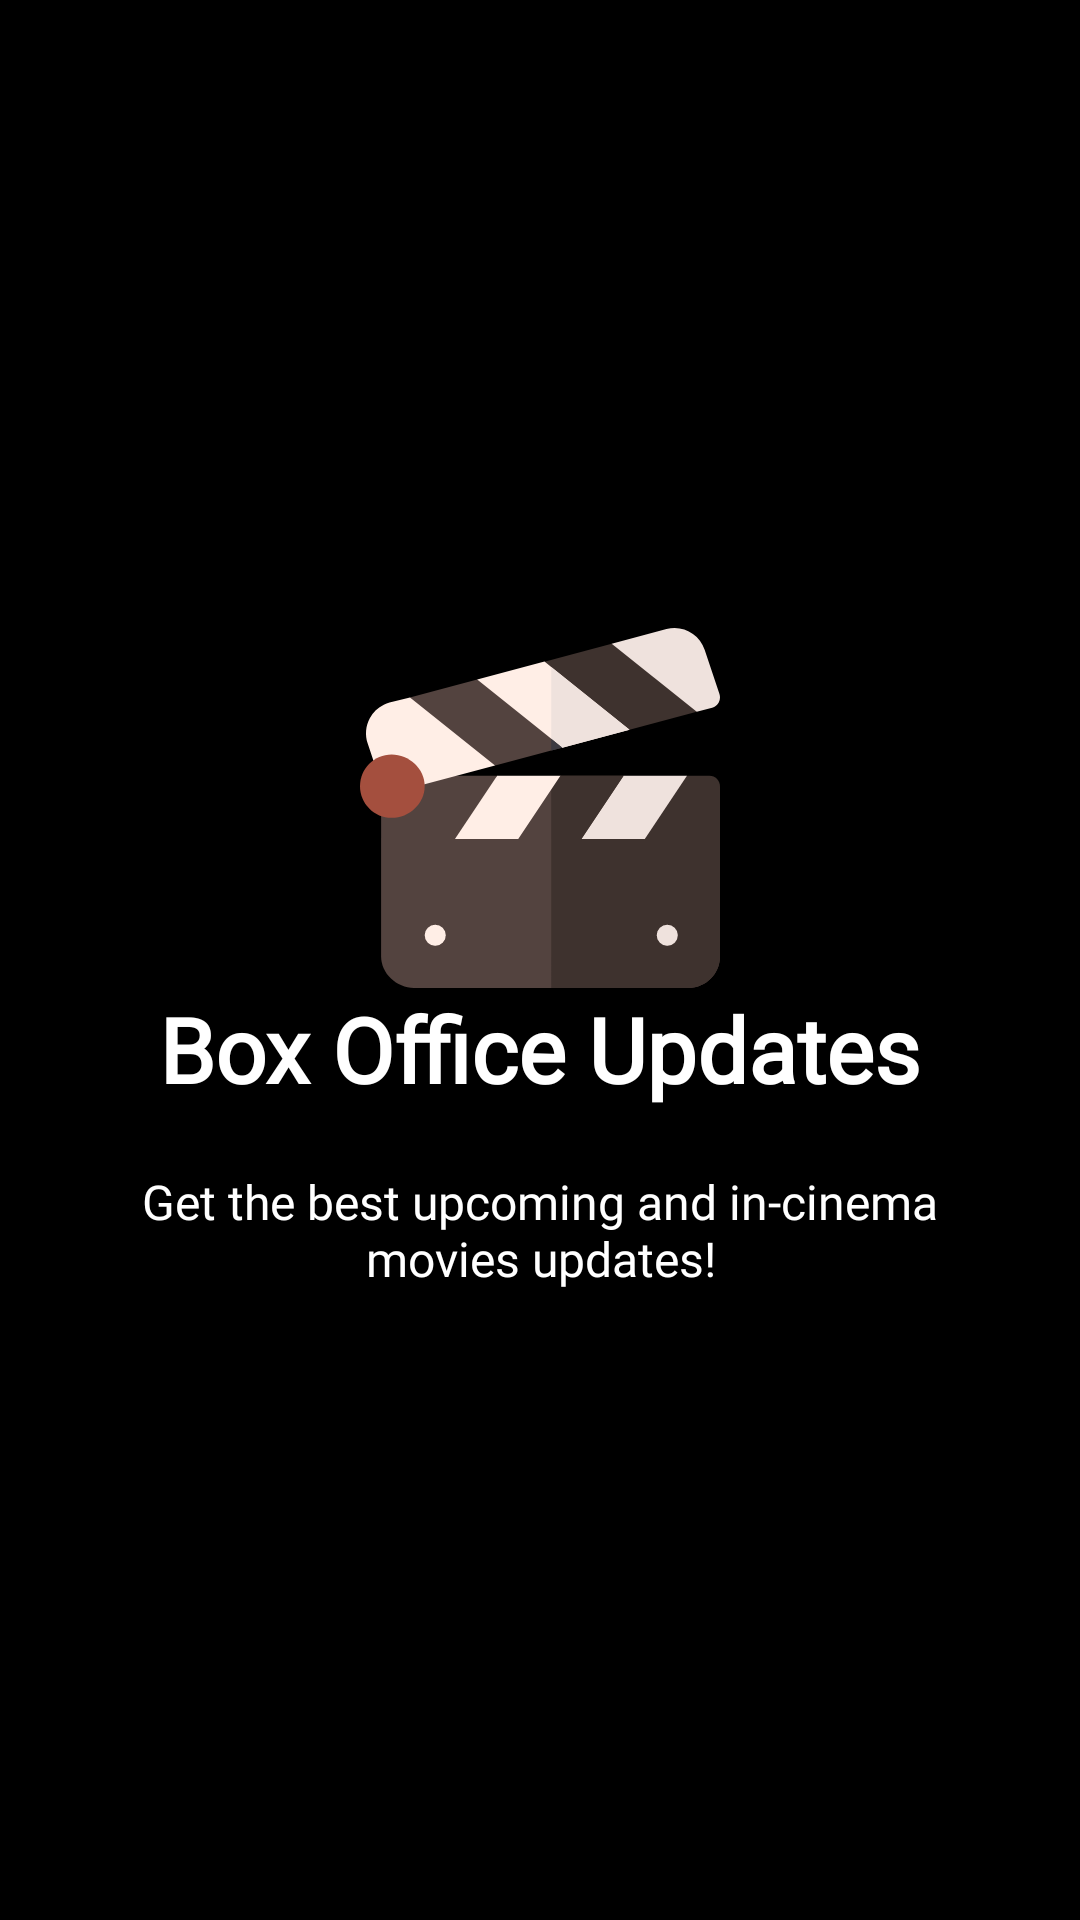

Icons on this 1080px x 1920px Android screen, each with its box as (x1, y1, x2, y2):
clapperboard: (360, 628, 720, 988)
